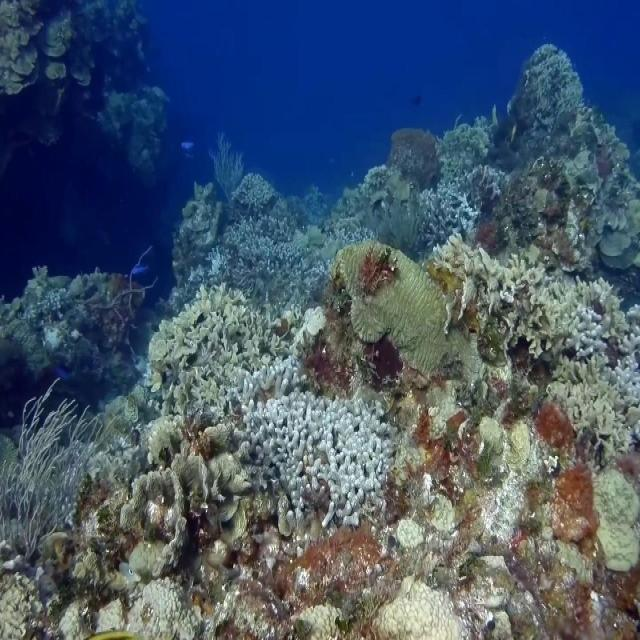reefs: (219, 349, 399, 565), (0, 376, 121, 563), (337, 243, 474, 378), (93, 576, 205, 639), (374, 574, 471, 639), (593, 466, 639, 569)
